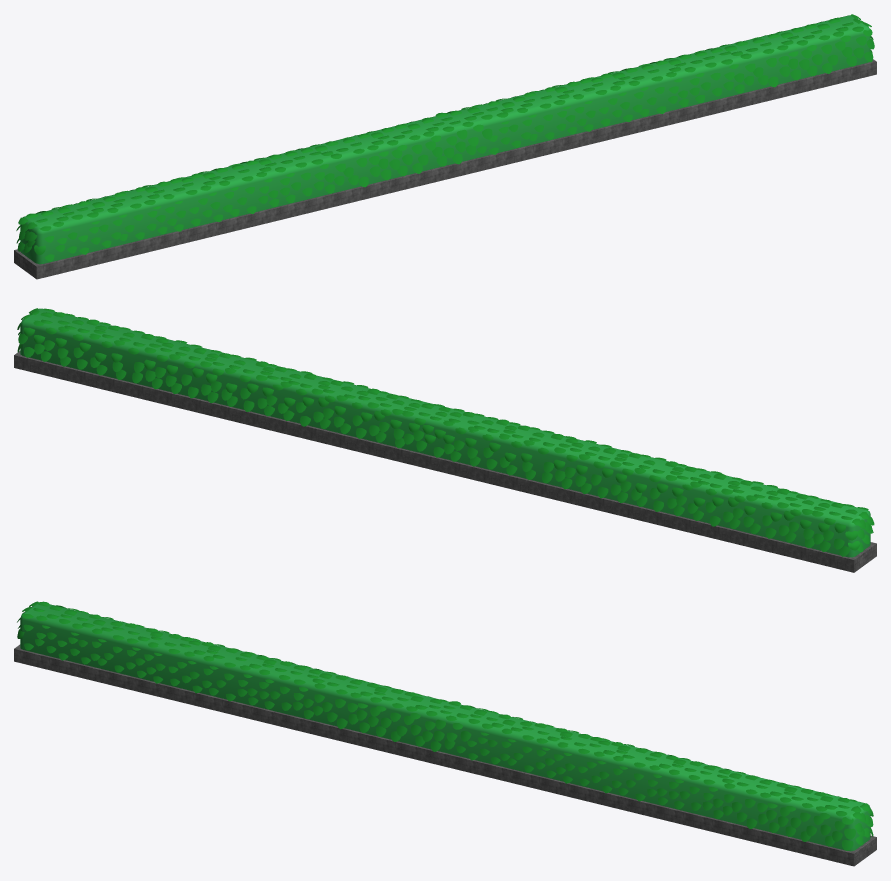
The model's file is Bush.glb.
3 views of the same model, one above another, from view 1: azimuth 30°, elevation 25°; view 2: azimuth 150°, elevation 25°; view 3: azimuth 330°, elevation 25° (orthographic).
Parts seen in each view (by area): view 1: BushCore_Geo, leaf_Geo, BushBase_Geo; view 2: BushCore_Geo, leaf_Geo, BushBase_Geo; view 3: BushCore_Geo, leaf_Geo, BushBase_Geo.
Boxes of the visible parts, x1,y1,x2,y2 form: BushCore_Geo: (20, 15, 870, 264); leaf_Geo: (16, 14, 874, 261); BushBase_Geo: (14, 59, 876, 279); BushCore_Geo: (20, 308, 870, 557); leaf_Geo: (17, 308, 874, 556); BushBase_Geo: (14, 351, 876, 572); BushCore_Geo: (20, 604, 870, 851); leaf_Geo: (17, 601, 873, 850); BushBase_Geo: (14, 644, 876, 866).
Size of the model in its own units: 48.45 by 2.72 by 2.6.
Materials: 3 (1 with a texture image).
